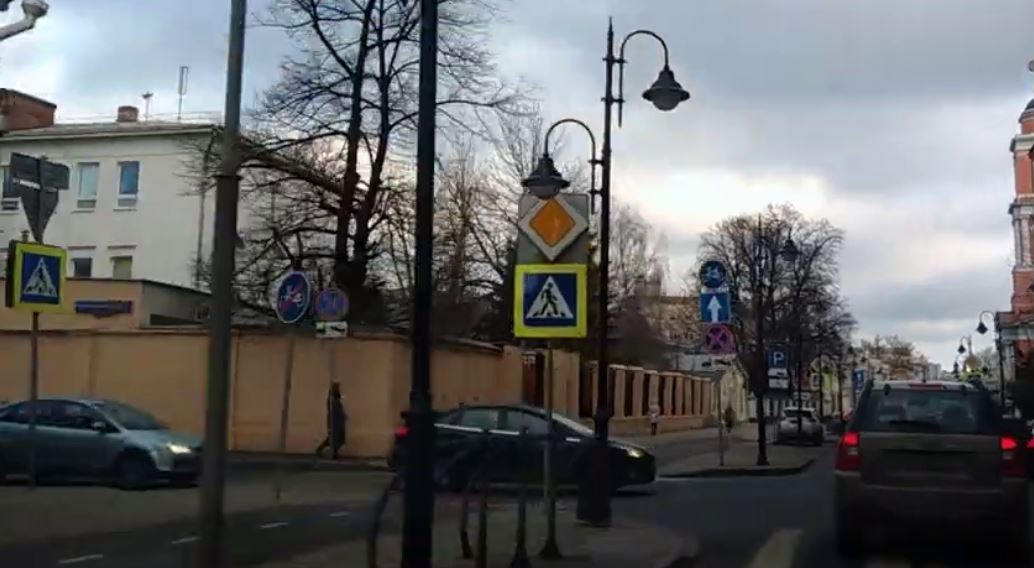Yaya Gecidi: (527, 275, 576, 326), (19, 252, 65, 301)
